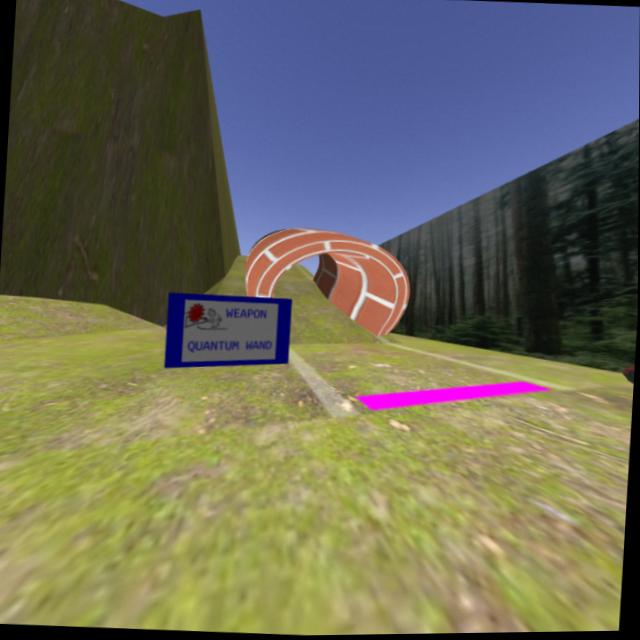clueboard: (162, 290, 293, 374)
